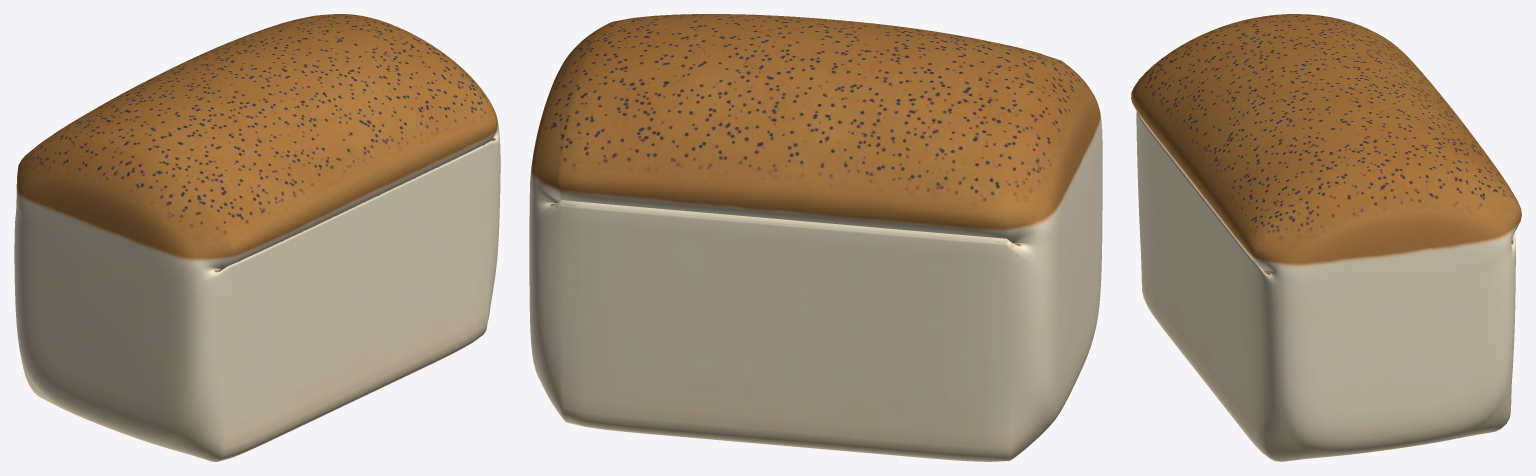
File: loaf--poppyseed-seed.glb
3 renders of one model, left to right at view 1: azimuth 30°, elevation 25°; view 2: azimuth 150°, elevation 25°; view 3: azimuth 270°, elevation 25°, orthographic. The views are drawn at different scales.
Visible parts, largest first — view 1: loaf_poppyseed-seed; view 2: loaf_poppyseed-seed; view 3: loaf_poppyseed-seed.
Part boxes in pixels (x1,y1,x2,y2): loaf_poppyseed-seed: [14, 14, 500, 461]; loaf_poppyseed-seed: [529, 14, 1102, 461]; loaf_poppyseed-seed: [1131, 14, 1521, 461].
Bounding box in the file's own units: 1.09 × 0.72 × 0.8491.
1 material, 1 textured.
